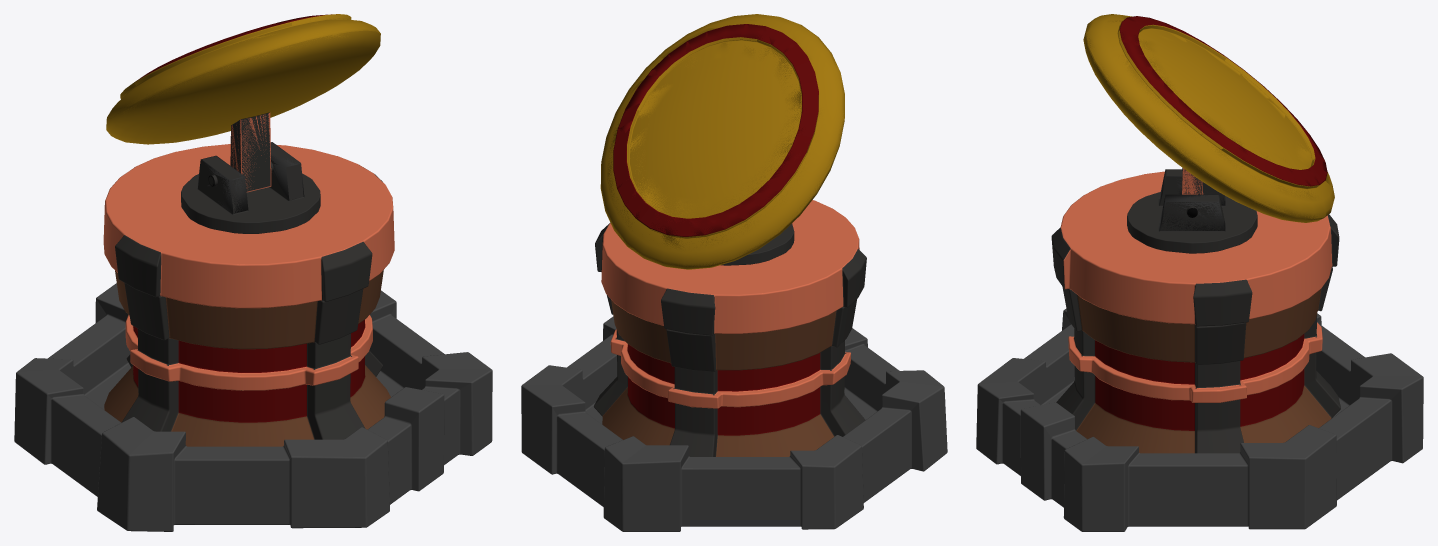
Rendered from towerModel.fbx.
3 views of the same model, side by side, from view 1: azimuth 30°, elevation 25°; view 2: azimuth 150°, elevation 25°; view 3: azimuth 270°, elevation 25° (orthographic). The views are drawn at different scales.
Visible parts, largest first — view 1: base.001, tounante.001, Sphere, Cube.009, Cube.001; view 2: base.001, tounante.001, Sphere; view 3: base.001, tounante.001, Sphere, Cube.009.
Part boxes in pixels (<box>): base.001: <box>14,144,492,531</box>; tounante.001: <box>106,15,380,233</box>; Sphere: <box>106,14,380,144</box>; Cube.009: <box>197,142,304,214</box>; Cube.001: <box>230,112,271,192</box>; base.001: <box>521,200,947,531</box>; tounante.001: <box>601,14,844,269</box>; Sphere: <box>600,14,844,269</box>; base.001: <box>976,171,1423,531</box>; tounante.001: <box>1083,14,1334,253</box>; Sphere: <box>1083,15,1333,222</box>; Cube.009: <box>1159,169,1225,231</box>.
Bounding box in the file's own units: 187 × 218 × 211.
